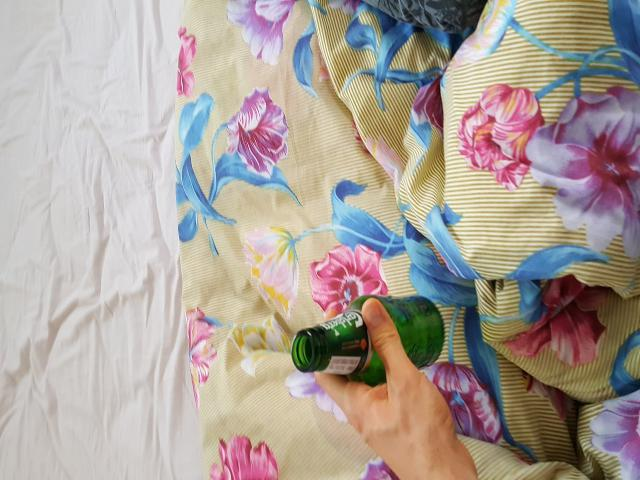beer: (294, 297, 444, 386)
